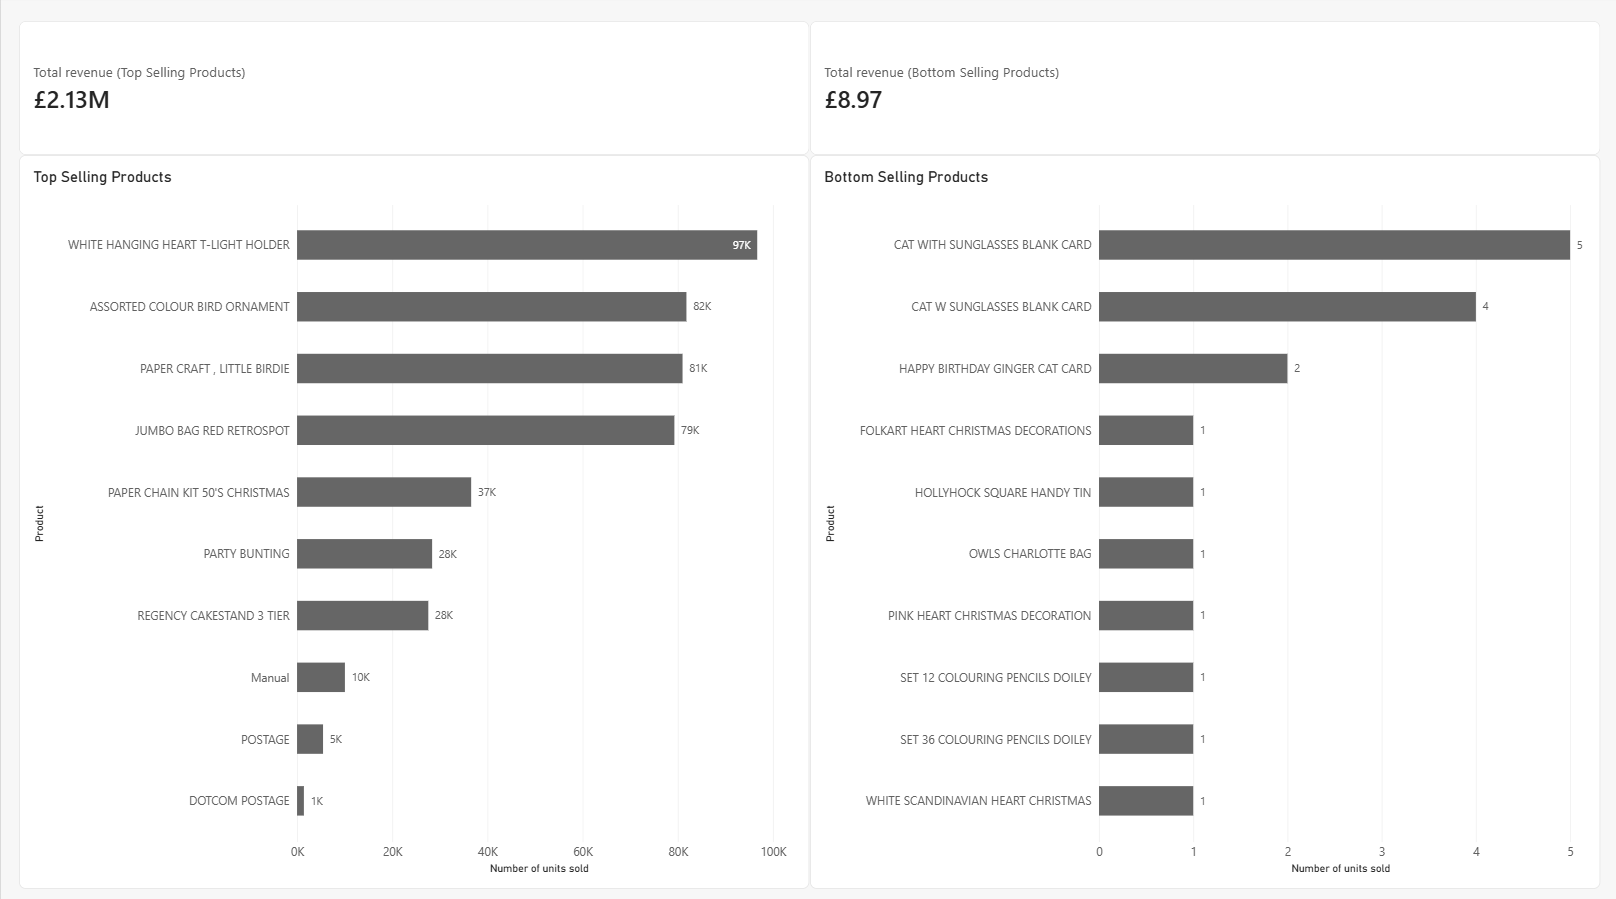

What the dashboard file says about the page in this screenshot:
{"tool":"powerbi","page":{"name":"Product Analysis","canvas":[1920,1080],"ordinal":1},"visuals":[{"type":"clusteredBarChart","title":"Top Selling Products","fields":{"Category":["Query1.description"],"Y":["Sum(Query1.total_units_sold)"]},"box":[21.9,188.2,938.1,871],"z":0},{"type":"cardVisual","fields":{"Data":["Sum(Best Selling Products.total_revenue)"]},"box":[21.9,29.2,938.1,159],"z":1000},{"type":"clusteredBarChart","title":"Bottom Selling Products","fields":{"Category":["Worst Selling Products.description"],"Y":["Sum(Worst Selling Products.total_units_sold)"]},"box":[960,188.2,938.1,871],"z":2000},{"type":"cardVisual","fields":{"Data":["Sum(Worst Selling Products.total_revenue)"]},"box":[960,29.2,938.1,159],"z":3000}]}

Visuals, with their boxes in screenshot pixels (x1, y1, x2, y2), scaled from the page's 1920x1080 canvas onto the 1616x899 screenshot:
"Top Selling Products" clusteredBarChart: pyautogui.locateOnScreen(18, 157, 808, 882)
cardVisual - Sum(Best Selling Products.total_revenue): pyautogui.locateOnScreen(18, 24, 808, 157)
"Bottom Selling Products" clusteredBarChart: pyautogui.locateOnScreen(808, 157, 1598, 882)
cardVisual - Sum(Worst Selling Products.total_revenue): pyautogui.locateOnScreen(808, 24, 1598, 157)
